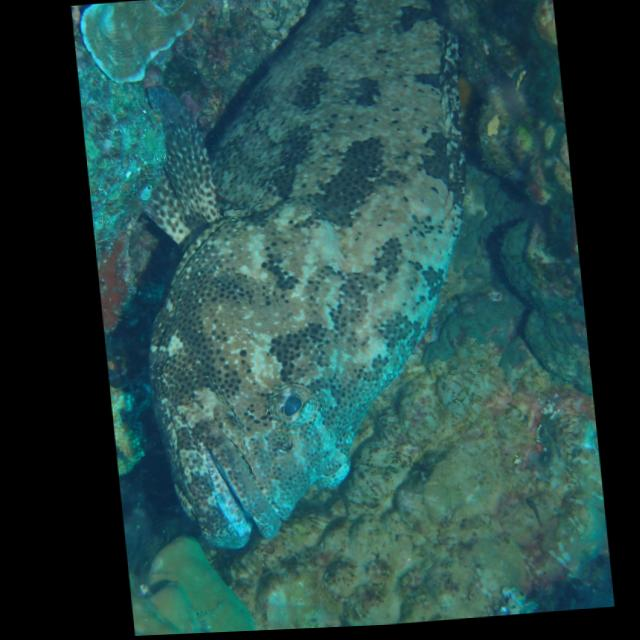Groupers: (109, 0, 513, 562)
